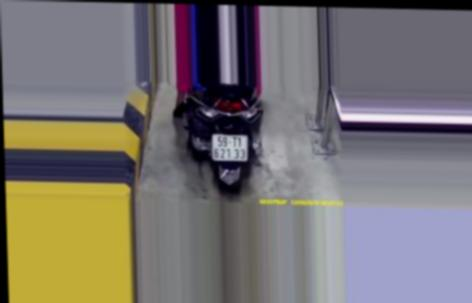License_Plate: (208, 130, 252, 167)
